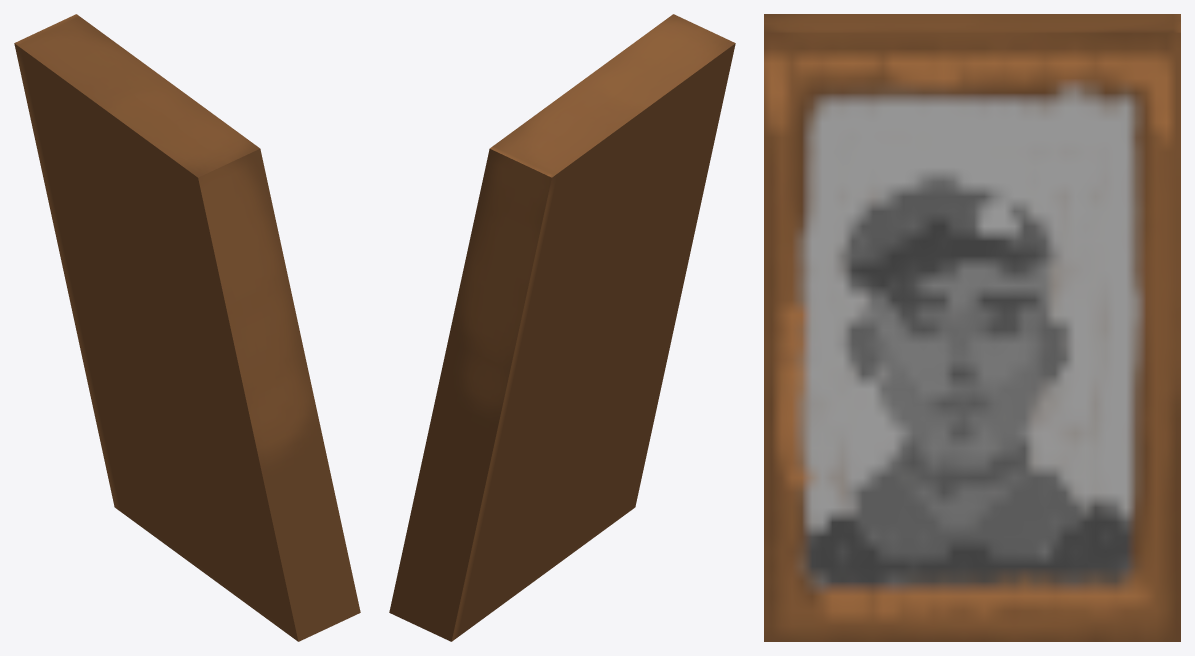
File: picture_frame.fbx
3 views of the same model, side by side, from view 1: azimuth 30°, elevation 25°; view 2: azimuth 150°, elevation 25°; view 3: azimuth 270°, elevation 25° (orthographic). The views are drawn at different scales.
Visible parts, largest first — view 1: photo frame; view 2: photo frame; view 3: photo frame.
Part boxes in pixels (x1=…): photo frame: x1=14, y1=14, x2=360, y2=641; photo frame: x1=389, y1=14, x2=735, y2=641; photo frame: x1=764, y1=14, x2=1180, y2=641.
Size of the model in its own units: 5.11 by 15.09 by 10.
Materials: 1 (1 with a texture image).
